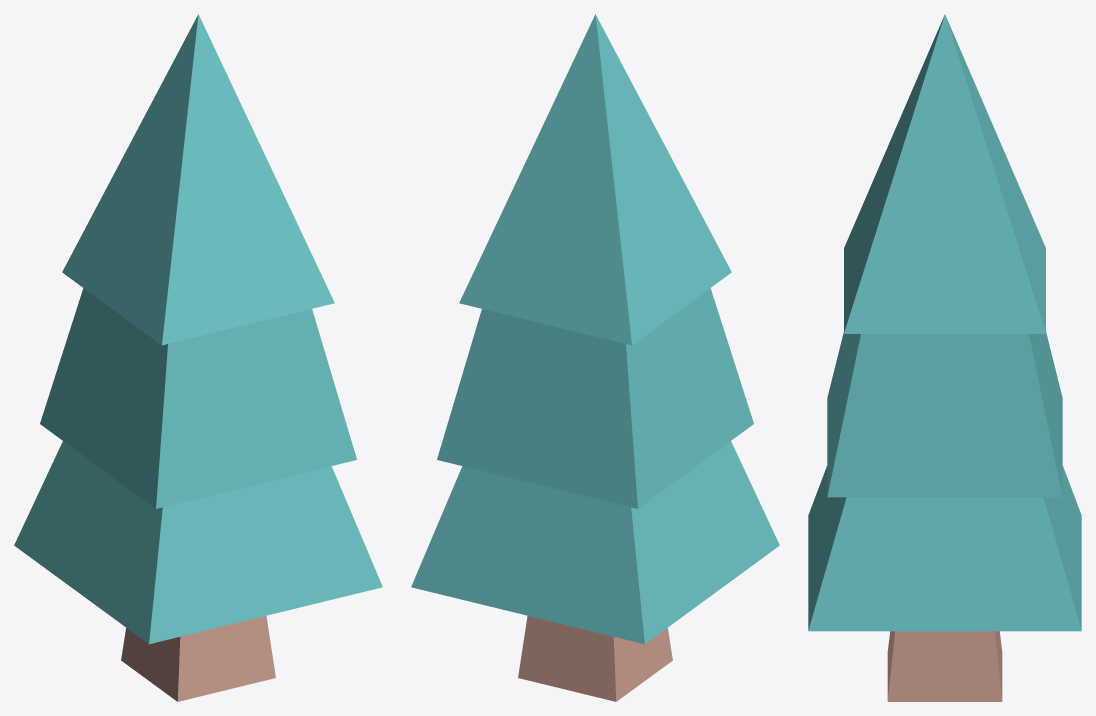
The model's file is tree_pineSmallD.glb.
The picture shows the model from 3 angles, left to right: view 1: azimuth 30°, elevation 25°; view 2: azimuth 150°, elevation 25°; view 3: azimuth 270°, elevation 25°; orthographic projection.
Visible parts, largest first — view 1: tree_pineSmallD; view 2: tree_pineSmallD; view 3: tree_pineSmallD.
Boxes of the visible parts, x1,y1,x2,y2 form: tree_pineSmallD: (14,14,382,701); tree_pineSmallD: (411,14,779,701); tree_pineSmallD: (808,14,1081,701).
Size of the model in its own units: 0.357 by 0.9556 by 0.357.
